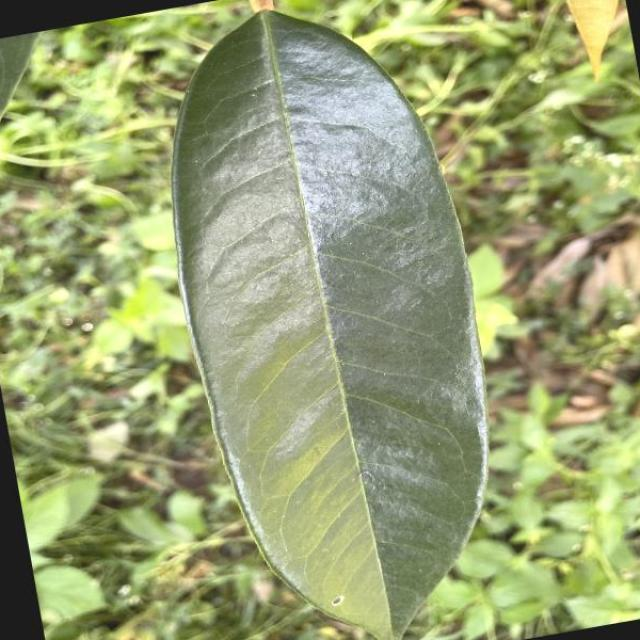No Disease: (122, 0, 544, 640)
